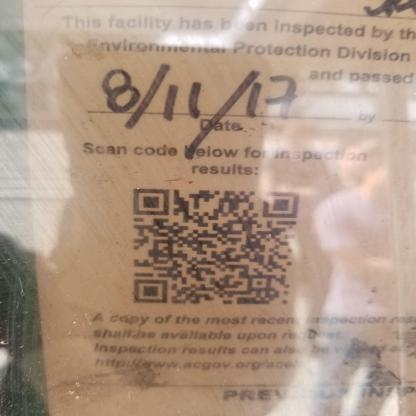qr: (129, 181, 303, 310)
